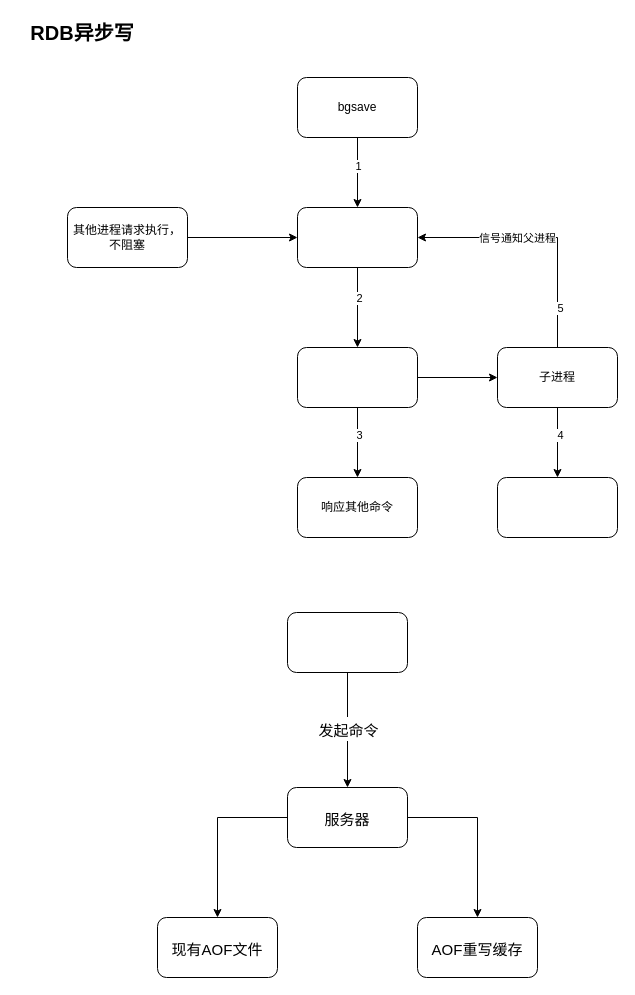
The diagram is 635 pixels wide and 995 high, and some of its shapes have lost their labels. Here are the shapes that lost their labels. From the top down, the centre of each, then its label:
At pixel 357 237: "父进程".
At pixel 357 377: "fork".
At pixel 557 507: "生成RDB文件".
At pixel 347 642: "客户端".
